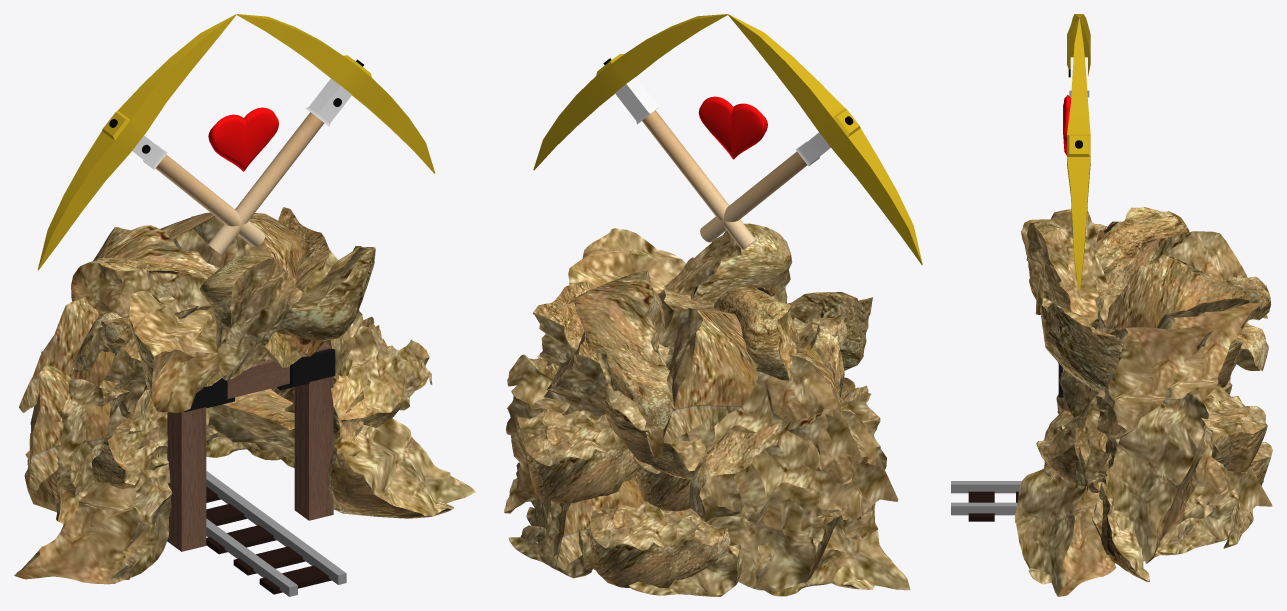
File: LoveMATERIAL3.obj
3 renders of one model, left to right at view 1: azimuth 30°, elevation 25°; view 2: azimuth 150°, elevation 25°; view 3: azimuth 270°, elevation 25°, orthographic. The views are drawn at different scales.
Visible parts, largest first — view 1: MushroomsMATERIAL4:shard1, MushroomsMATERIAL4:pCube9, MushroomsMATERIAL4:shard18 MushroomsMATERIAL4:polySurface7, MushroomsMATERIAL4:solidShatter1 MushroomsMATERIAL4:shard6, MushroomsMATERIAL4:pCylinder6 MushroomsMATERIAL4:polySurface17, MushroomsMATERIAL4:solidShatter1 MushroomsMATERIAL4:shard8, MushroomsMATERIAL4:shard18 MushroomsMATERIAL4:polySurface6, MushroomsMATERIAL4:pCylinder6 MushroomsMATERIAL4:polySurface22, MushroomsMATERIAL4:polySurface4 MushroomsMATERIAL4:shard18, MushroomsMATERIAL4:solidShatter1 MushroomsMATERIAL4:shard32, MushroomsMATERIAL4:solidShatter1 MushroomsMATERIAL4:shard31, MushroomsMATERIAL4:solidShatter1 MushroomsMATERIAL4:shard21 (+20 smaller); view 2: MushroomsMATERIAL4:solidShatter1 MushroomsMATERIAL4:shard31, MushroomsMATERIAL4:solidShatter1 MushroomsMATERIAL4:shard22, MushroomsMATERIAL4:solidShatter1 MushroomsMATERIAL4:shard21, MushroomsMATERIAL4:solidShatter1 MushroomsMATERIAL4:shard30, MushroomsMATERIAL4:solidShatter1 MushroomsMATERIAL4:shard24, MushroomsMATERIAL4:solidShatter1 MushroomsMATERIAL4:shard26, MushroomsMATERIAL4:pCylinder6 MushroomsMATERIAL4:polySurface17, MushroomsMATERIAL4:shard1, MushroomsMATERIAL4:solidShatter1 MushroomsMATERIAL4:shard6, MushroomsMATERIAL4:solidShatter1 MushroomsMATERIAL4:shard25, MushroomsMATERIAL4:pCylinder6 MushroomsMATERIAL4:polySurface22, MushroomsMATERIAL4:solidShatter1 MushroomsMATERIAL4:shard8 (+19 smaller); view 3: MushroomsMATERIAL4:shard18 MushroomsMATERIAL4:polySurface8, MushroomsMATERIAL4:shard18 MushroomsMATERIAL4:polySurface7, MushroomsMATERIAL4:solidShatter1 MushroomsMATERIAL4:shard21, MushroomsMATERIAL4:shard18 MushroomsMATERIAL4:polySurface9, MushroomsMATERIAL4:solidShatter1 MushroomsMATERIAL4:shard6, MushroomsMATERIAL4:polySurface4 MushroomsMATERIAL4:shard18, MushroomsMATERIAL4:solidShatter1 MushroomsMATERIAL4:shard22, MushroomsMATERIAL4:pCylinder6 MushroomsMATERIAL4:polySurface22, MushroomsMATERIAL4:shard18 MushroomsMATERIAL4:polySurface10, MushroomsMATERIAL4:solidShatter1 MushroomsMATERIAL4:shard24, MushroomsMATERIAL4:solidShatter1 MushroomsMATERIAL4:shard8, MushroomsMATERIAL4:solidShatter1 MushroomsMATERIAL4:shard27 (+15 smaller).
Boxes of the visible parts, x1,y1,x2,y2 form: MushroomsMATERIAL4:shard1: (14, 291, 219, 584); MushroomsMATERIAL4:pCube9: (167, 343, 335, 551); MushroomsMATERIAL4:shard18 MushroomsMATERIAL4:polySurface7: (328, 407, 475, 518); MushroomsMATERIAL4:solidShatter1 MushroomsMATERIAL4:shard6: (199, 255, 306, 381); MushroomsMATERIAL4:pCylinder6 MushroomsMATERIAL4:polySurface17: (38, 14, 236, 270); MushroomsMATERIAL4:solidShatter1 MushroomsMATERIAL4:shard8: (71, 257, 211, 314); MushroomsMATERIAL4:shard18 MushroomsMATERIAL4:polySurface6: (331, 323, 407, 427); MushroomsMATERIAL4:pCylinder6 MushroomsMATERIAL4:polySurface22: (236, 14, 434, 173); MushroomsMATERIAL4:polySurface4 MushroomsMATERIAL4:shard18: (272, 246, 375, 342); MushroomsMATERIAL4:solidShatter1 MushroomsMATERIAL4:shard32: (56, 379, 129, 524); MushroomsMATERIAL4:solidShatter1 MushroomsMATERIAL4:shard31: (27, 351, 117, 490); MushroomsMATERIAL4:solidShatter1 MushroomsMATERIAL4:shard21: (160, 212, 301, 278); MushroomsMATERIAL4:solidShatter1 MushroomsMATERIAL4:shard31: (689, 405, 898, 530); MushroomsMATERIAL4:solidShatter1 MushroomsMATERIAL4:shard22: (650, 289, 757, 444); MushroomsMATERIAL4:solidShatter1 MushroomsMATERIAL4:shard21: (573, 270, 675, 429); MushroomsMATERIAL4:solidShatter1 MushroomsMATERIAL4:shard30: (589, 501, 730, 587); MushroomsMATERIAL4:solidShatter1 MushroomsMATERIAL4:shard24: (515, 408, 636, 503); MushroomsMATERIAL4:solidShatter1 MushroomsMATERIAL4:shard26: (644, 348, 866, 471); MushroomsMATERIAL4:pCylinder6 MushroomsMATERIAL4:polySurface17: (728, 14, 922, 264); MushroomsMATERIAL4:shard1: (787, 292, 910, 590); MushroomsMATERIAL4:solidShatter1 MushroomsMATERIAL4:shard6: (658, 223, 792, 303); MushroomsMATERIAL4:solidShatter1 MushroomsMATERIAL4:shard25: (666, 486, 859, 591); MushroomsMATERIAL4:pCylinder6 MushroomsMATERIAL4:polySurface22: (533, 14, 727, 170); MushroomsMATERIAL4:solidShatter1 MushroomsMATERIAL4:shard8: (713, 285, 799, 380); MushroomsMATERIAL4:shard18 MushroomsMATERIAL4:polySurface8: (1105, 387, 1208, 563); MushroomsMATERIAL4:shard18 MushroomsMATERIAL4:polySurface7: (1014, 468, 1116, 596); MushroomsMATERIAL4:solidShatter1 MushroomsMATERIAL4:shard21: (1096, 255, 1270, 333); MushroomsMATERIAL4:shard18 MushroomsMATERIAL4:polySurface9: (1088, 324, 1217, 468); MushroomsMATERIAL4:solidShatter1 MushroomsMATERIAL4:shard6: (1026, 220, 1108, 329); MushroomsMATERIAL4:polySurface4 MushroomsMATERIAL4:shard18: (1040, 297, 1122, 392); MushroomsMATERIAL4:solidShatter1 MushroomsMATERIAL4:shard22: (1095, 231, 1267, 334); MushroomsMATERIAL4:pCylinder6 MushroomsMATERIAL4:polySurface22: (1067, 18, 1090, 294); MushroomsMATERIAL4:shard18 MushroomsMATERIAL4:polySurface10: (1164, 302, 1258, 399); MushroomsMATERIAL4:solidShatter1 MushroomsMATERIAL4:shard24: (1201, 384, 1267, 472); MushroomsMATERIAL4:solidShatter1 MushroomsMATERIAL4:shard8: (1095, 207, 1189, 273); MushroomsMATERIAL4:solidShatter1 MushroomsMATERIAL4:shard27: (1092, 430, 1272, 537).
Size of the model in its own units: 17.49 by 20.56 by 12.39.
Materials: 10 (3 with a texture image).
